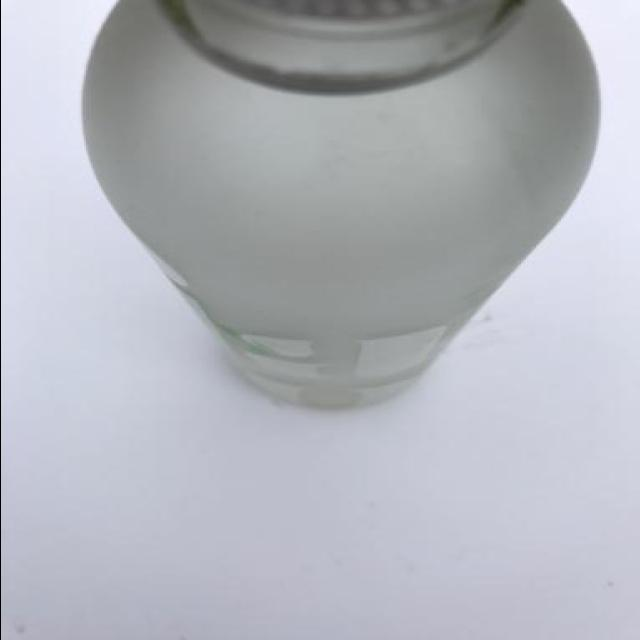glass: (59, 0, 624, 502)
